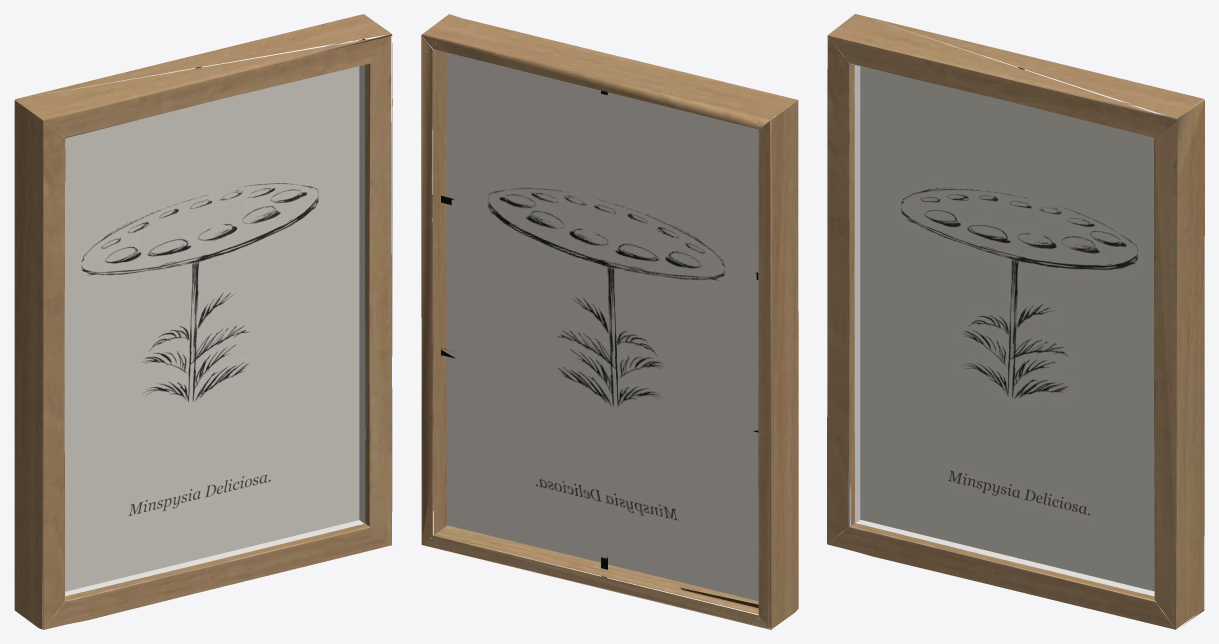
3 views of the same model, side by side, from view 1: azimuth 30°, elevation 25°; view 2: azimuth 150°, elevation 25°; view 3: azimuth 330°, elevation 25° (orthographic).
Visible parts, largest first — view 1: print_lear-minspysia-21x30.002, rodalm-21x30-oak.001; view 2: print_lear-minspysia-21x30.002, rodalm-21x30-oak.001; view 3: print_lear-minspysia-21x30.002, rodalm-21x30-oak.001.
Boxes of the visible parts, <box> form: print_lear-minspysia-21x30.002: <box>55,66,359,591</box>; rodalm-21x30-oak.001: <box>14,14,392,629</box>; print_lear-minspysia-21x30.002: <box>446,52,758,600</box>; rodalm-21x30-oak.001: <box>421,14,798,629</box>; print_lear-minspysia-21x30.002: <box>860,66,1173,591</box>; rodalm-21x30-oak.001: <box>827,14,1204,629</box>.
Size of the model in its own units: 0.2282 by 0.318 by 0.0327.
3 materials, 2 textured.
